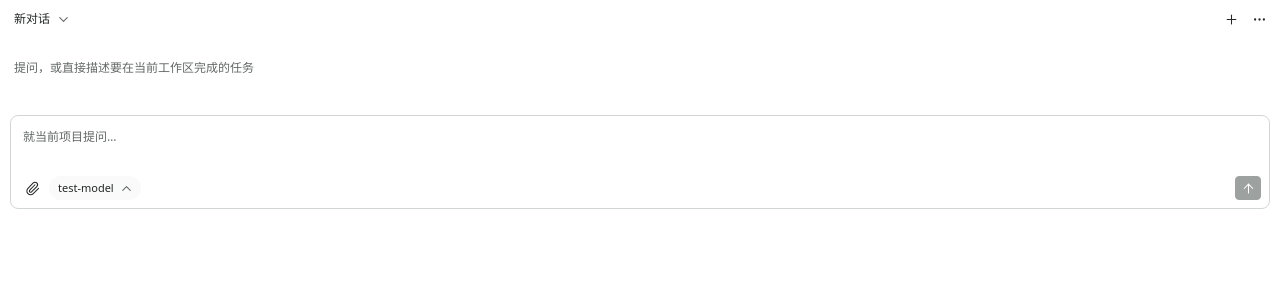
supports chat keyboard shortcuts without submitting Chinese IME composition
In the text box named "向 AI 提问": [640, 150] box [19,124,1261,176], type "第一行"
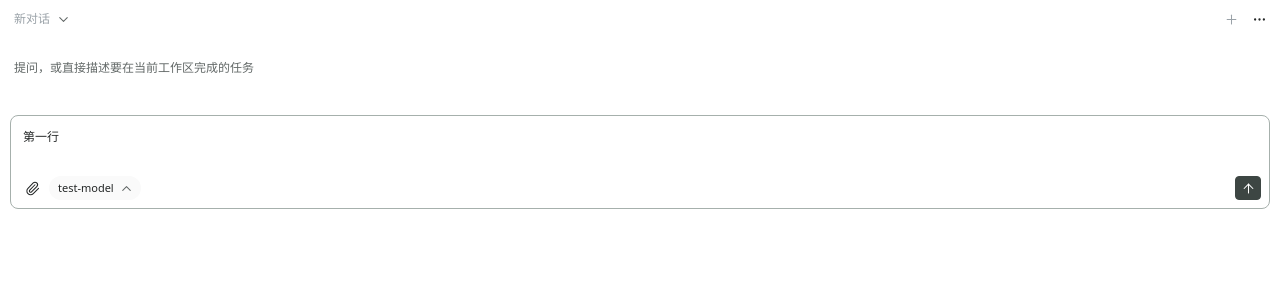
Type keys "{Shift>}{Enter}{/Shift}"
In the text box named "向 AI 提问": [640, 150] box [19,124,1261,176], type "第二行"
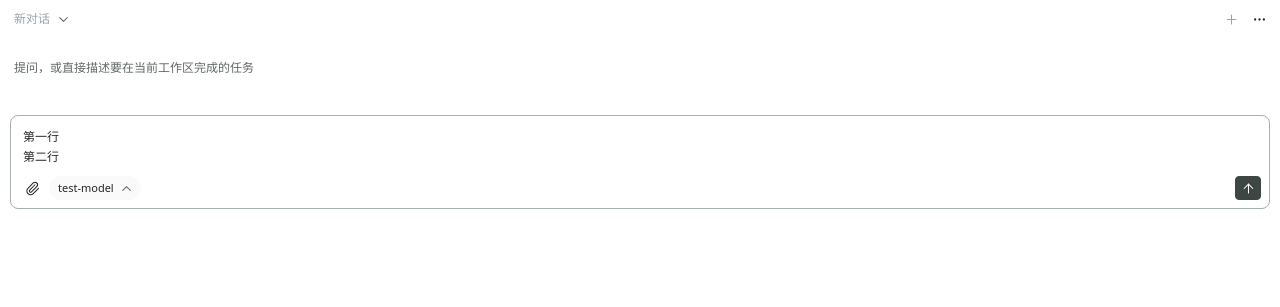
Press Enter in the text box named "向 AI 提问", box [19,124,1261,176]
Press Enter in the text box named "向 AI 提问", box [19,124,1261,176]
Press Enter
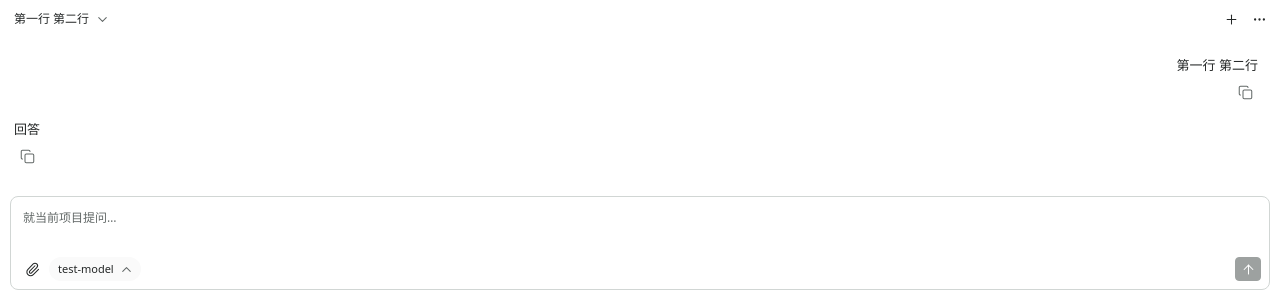
Expected: the text "回答" is shown, [14,118,40,140]
